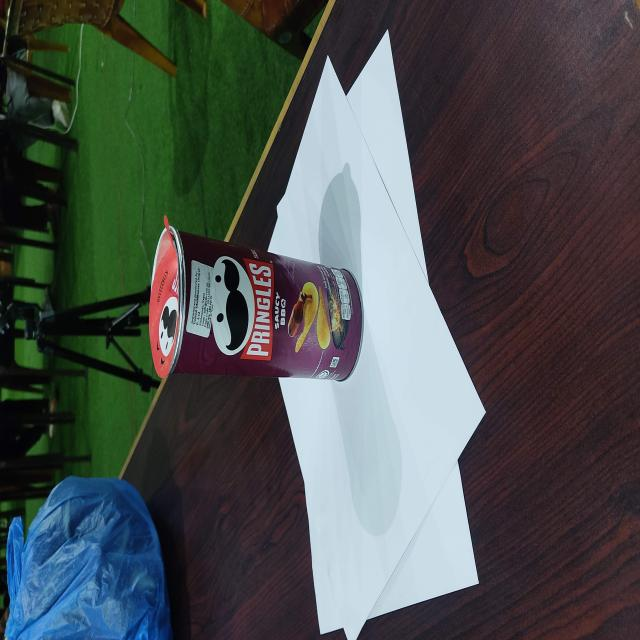Pringles: (148, 216, 364, 383)
